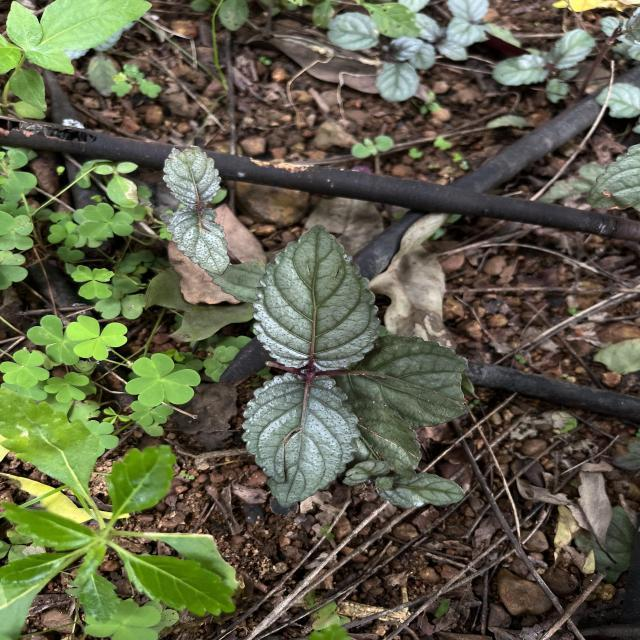Hemigraphis colorata: (249, 222, 384, 374), (238, 371, 364, 512), (330, 332, 474, 429), (154, 205, 233, 278), (160, 140, 224, 206)
